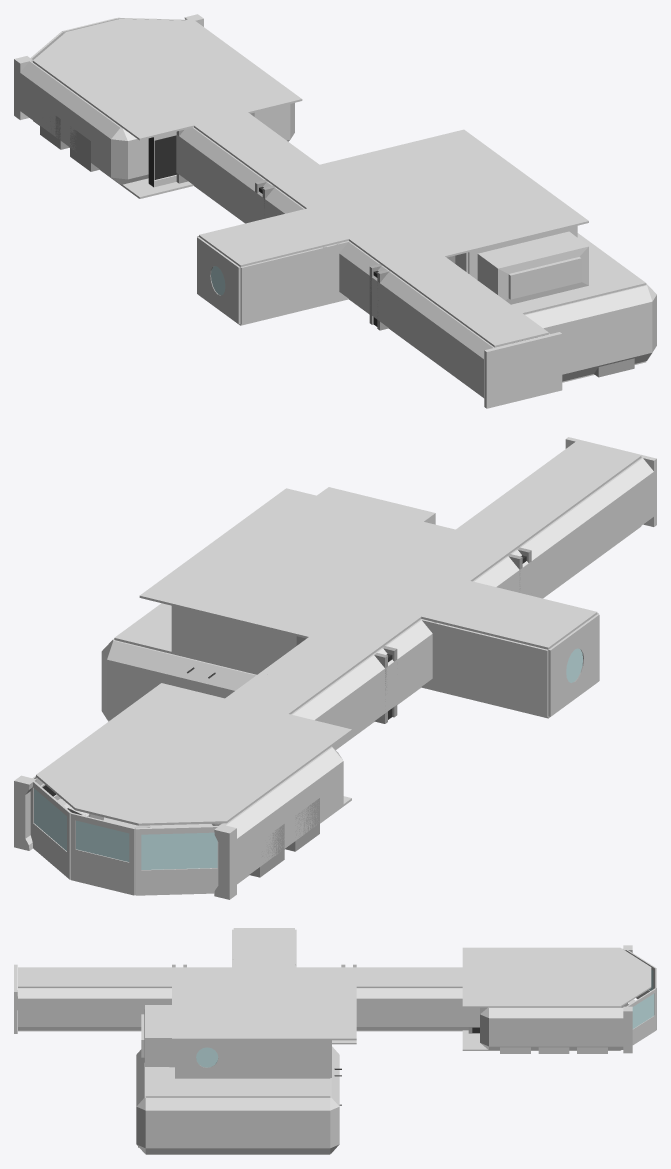
Rendered from level.fbx.
The picture shows the model from 3 angles, top to bottom: view 1: azimuth 30°, elevation 25°; view 2: azimuth 150°, elevation 25°; view 3: azimuth 270°, elevation 25°; orthographic projection. The views are drawn at different scales.
Parts seen in each view (by area): view 1: room.bed, wall, doorway.001, wall.006, wall.005, wall.008, wall.009, room.wall.007, wall.007, room.wall.009, floor.113, room.wall.016 (+56 smaller); view 2: wall, wall.008, room.wall.005, room.wall.004, wall.005, navigation.window, floor.113, wall.007, room.wall.014, room.wall.009, room.wall.016, room.wall.012 (+61 smaller); view 3: wall.006, wall, wall.008, wall.005, wall.007, room.wall.002, room.bed, room.wall.011, room.wall.013, floor.113, wall.009, floor.049 (+59 smaller).
Boxes of the visible parts, bbox=[...] form: room.bed: bbox=[468, 226, 588, 304]; wall: bbox=[380, 271, 549, 397]; doorway.001: bbox=[484, 332, 562, 408]; wall.006: bbox=[538, 294, 616, 381]; wall.005: bbox=[176, 127, 264, 223]; wall.008: bbox=[14, 16, 193, 166]; wall.009: bbox=[97, 103, 294, 184]; room.wall.007: bbox=[240, 253, 300, 324]; wall.007: bbox=[525, 284, 656, 363]; room.wall.009: bbox=[300, 241, 348, 309]; floor.113: bbox=[33, 19, 193, 60]; room.wall.016: bbox=[197, 237, 240, 324]; wall: bbox=[519, 458, 653, 598]; wall.008: bbox=[14, 759, 327, 896]; room.wall.005: bbox=[477, 633, 548, 716]; room.wall.004: bbox=[30, 780, 223, 895]; wall.005: bbox=[291, 654, 384, 749]; navigation.window: bbox=[34, 788, 217, 869]; floor.113: bbox=[36, 774, 226, 825]; wall.007: bbox=[101, 639, 256, 721]; room.wall.014: bbox=[172, 606, 242, 669]; room.wall.009: bbox=[422, 619, 478, 700]; room.wall.016: bbox=[548, 614, 599, 716]; room.wall.012: bbox=[70, 813, 135, 895]; wall.006: bbox=[136, 1059, 339, 1153]; wall: bbox=[18, 988, 171, 1030]; wall.008: bbox=[509, 948, 632, 1049]; wall.005: bbox=[356, 988, 479, 1030]; wall.007: bbox=[136, 1046, 339, 1153]; room.wall.002: bbox=[176, 1040, 237, 1078]; room.bed: bbox=[141, 1005, 176, 1078]; room.wall.011: bbox=[238, 1040, 284, 1078]; room.wall.013: bbox=[284, 1040, 330, 1078]; floor.113: bbox=[620, 948, 651, 1007]; wall.009: bbox=[480, 1007, 509, 1049]; floor.049: bbox=[284, 1078, 330, 1097].
Size of the model in its own units: 1987 by 730 by 4174.
